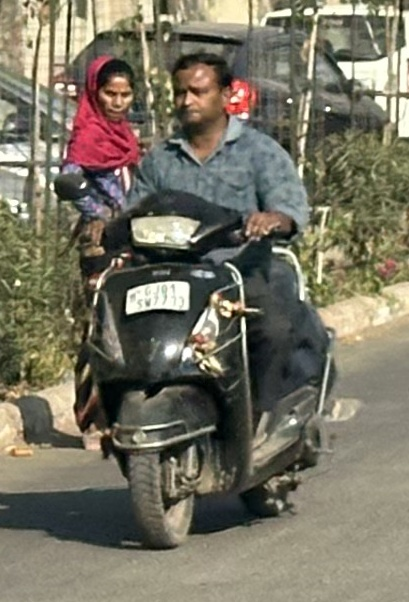BikeWithRider: (78, 51, 363, 547)
NoHelmet: (167, 51, 236, 126)
